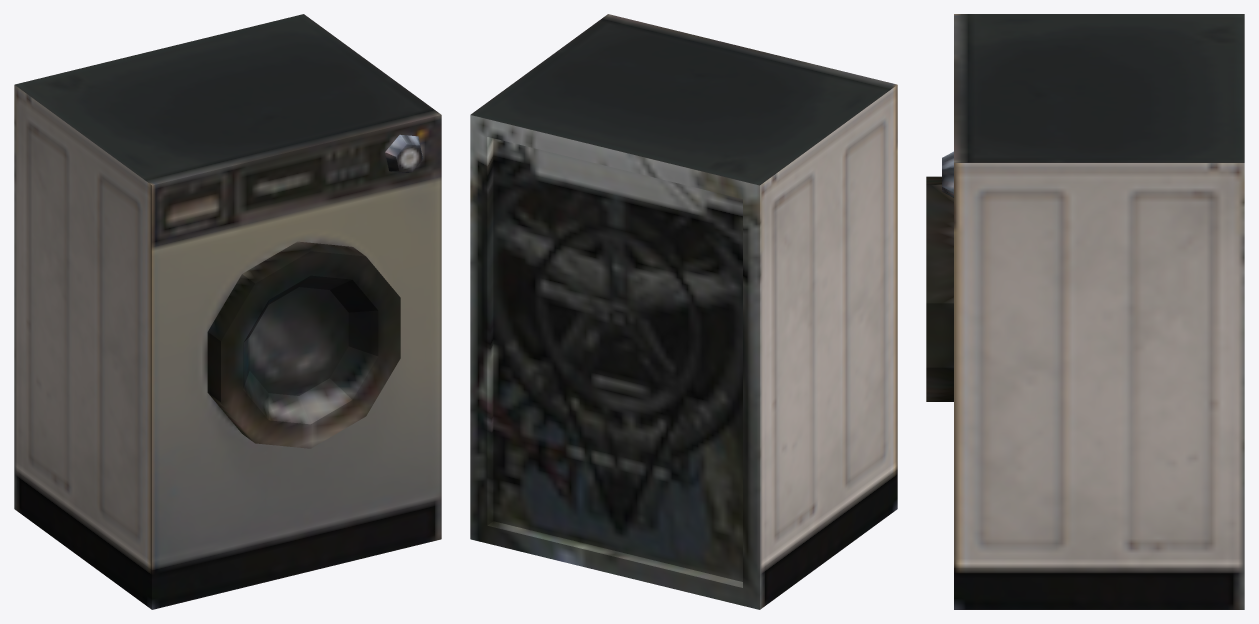
Rendered from washing_machine1.fbx.
The picture shows the model from 3 angles, left to right: view 1: azimuth 30°, elevation 25°; view 2: azimuth 150°, elevation 25°; view 3: azimuth 270°, elevation 25°; orthographic projection. The views are drawn at different scales.
Parts seen in each view (by area): view 1: WashingMachine1; view 2: WashingMachine1; view 3: WashingMachine1.
Part boxes in pixels (x1,y1,x2,y2): WashingMachine1: (14, 14, 441, 609); WashingMachine1: (470, 14, 897, 609); WashingMachine1: (926, 14, 1244, 609).
Bounding box in the file's own units: 90 × 126 × 81.29.
Materials: 1 (1 with a texture image).
